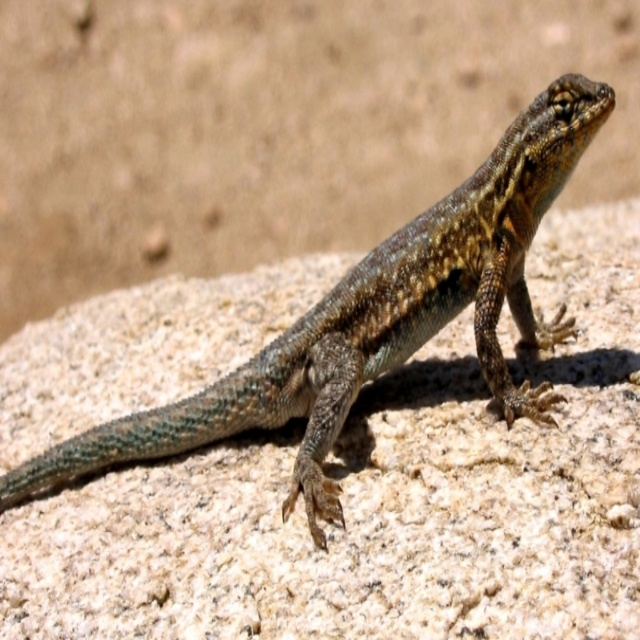Lizard: (0, 73, 616, 555)
